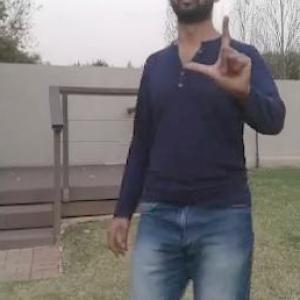land_hand: (185, 12, 256, 95)
